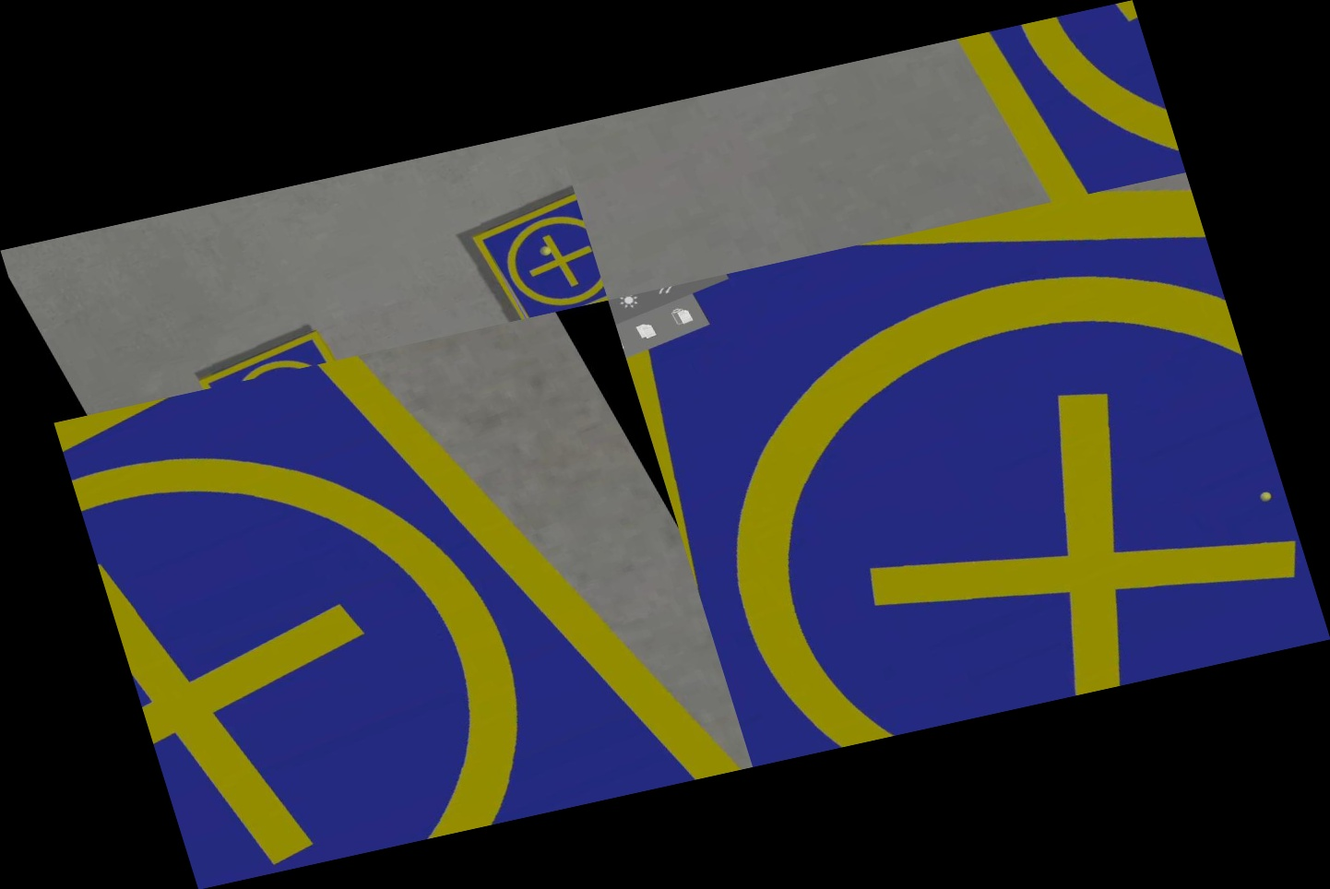small_base: (608, 172, 1330, 766), (53, 300, 753, 889), (910, 0, 1185, 221), (463, 187, 608, 325), (188, 319, 355, 390)
